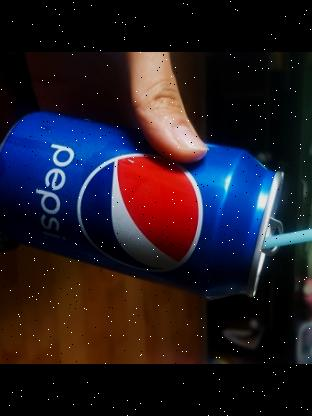Can: (0, 99, 286, 302)
